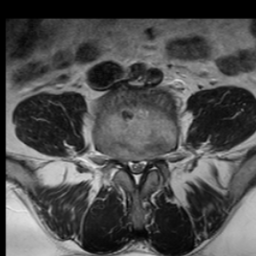CCS_normal: (134, 155, 140, 191)
LFS_stenosis: (149, 148, 156, 174)
LLS_severe_stenosis: (141, 153, 148, 179)
RFS_severe_stenosis: (117, 149, 127, 175)
RLS_stenosis: (127, 153, 134, 177)
